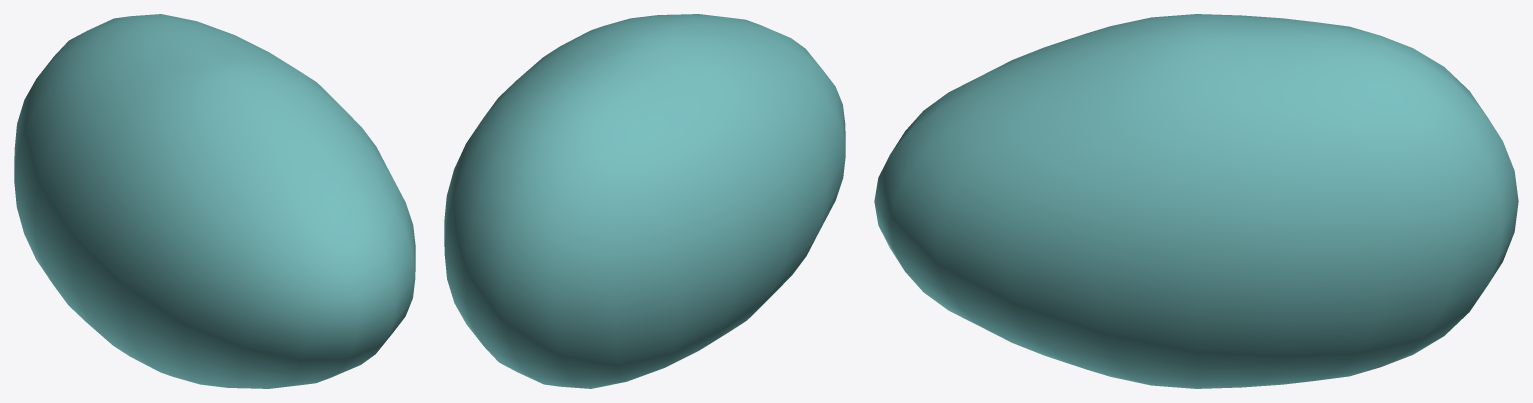
Rendered from Dot_Arrow.gltf.
The picture shows the model from 3 angles, left to right: view 1: azimuth 30°, elevation 25°; view 2: azimuth 150°, elevation 25°; view 3: azimuth 270°, elevation 25°; orthographic projection. The views are drawn at different scales.
Parts seen in each view (by area): view 1: Dot_Arrow_Egg_shape_Grp; view 2: Dot_Arrow_Egg_shape_Grp; view 3: Dot_Arrow_Egg_shape_Grp.
Part boxes in pixels (x1,y1,x2,y2): Dot_Arrow_Egg_shape_Grp: (14,14,415,388); Dot_Arrow_Egg_shape_Grp: (444,14,845,388); Dot_Arrow_Egg_shape_Grp: (874,14,1518,388).
Size of the model in its own units: 2 by 2 by 3.43.
